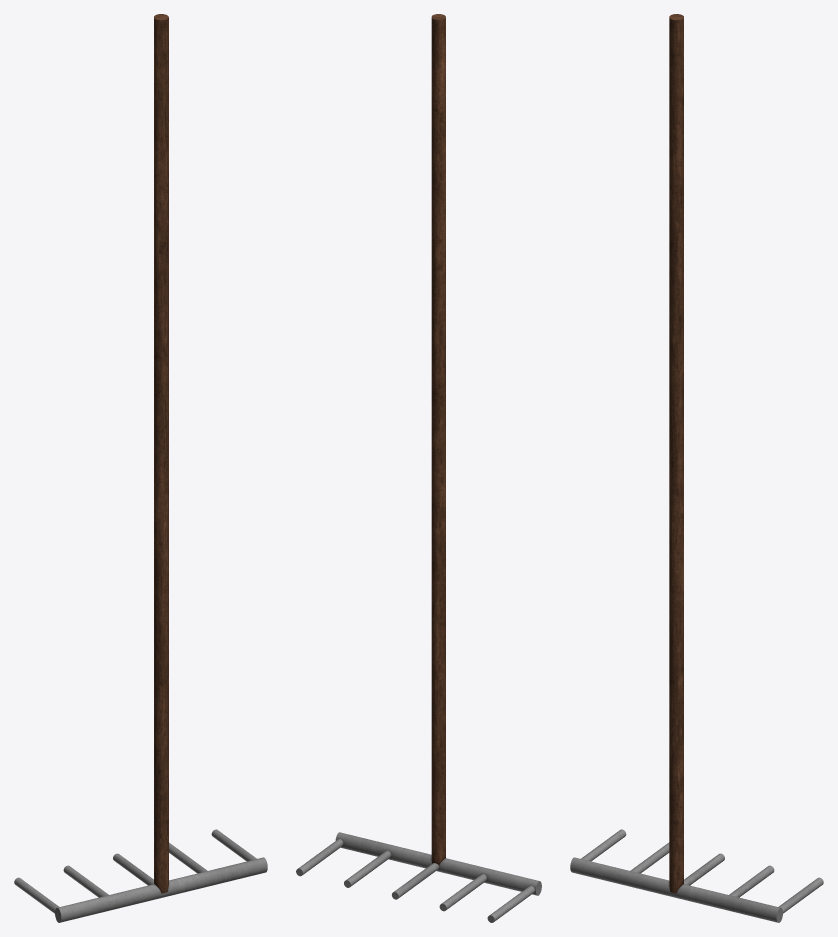
Rendered from Khad.fbx.
The picture shows the model from 3 angles, left to right: view 1: azimuth 30°, elevation 25°; view 2: azimuth 150°, elevation 25°; view 3: azimuth 330°, elevation 25°; orthographic projection. The views are drawn at different scales.
Visible parts, largest first — view 1: Khad; view 2: Khad; view 3: Khad.
Part boxes in pixels (x1,y1,x2,y2): Khad: (14,14,267,922); Khad: (296,14,541,922); Khad: (570,14,823,922).
Size of the model in its own units: 0.8367 by 3.41 by 0.3404.
